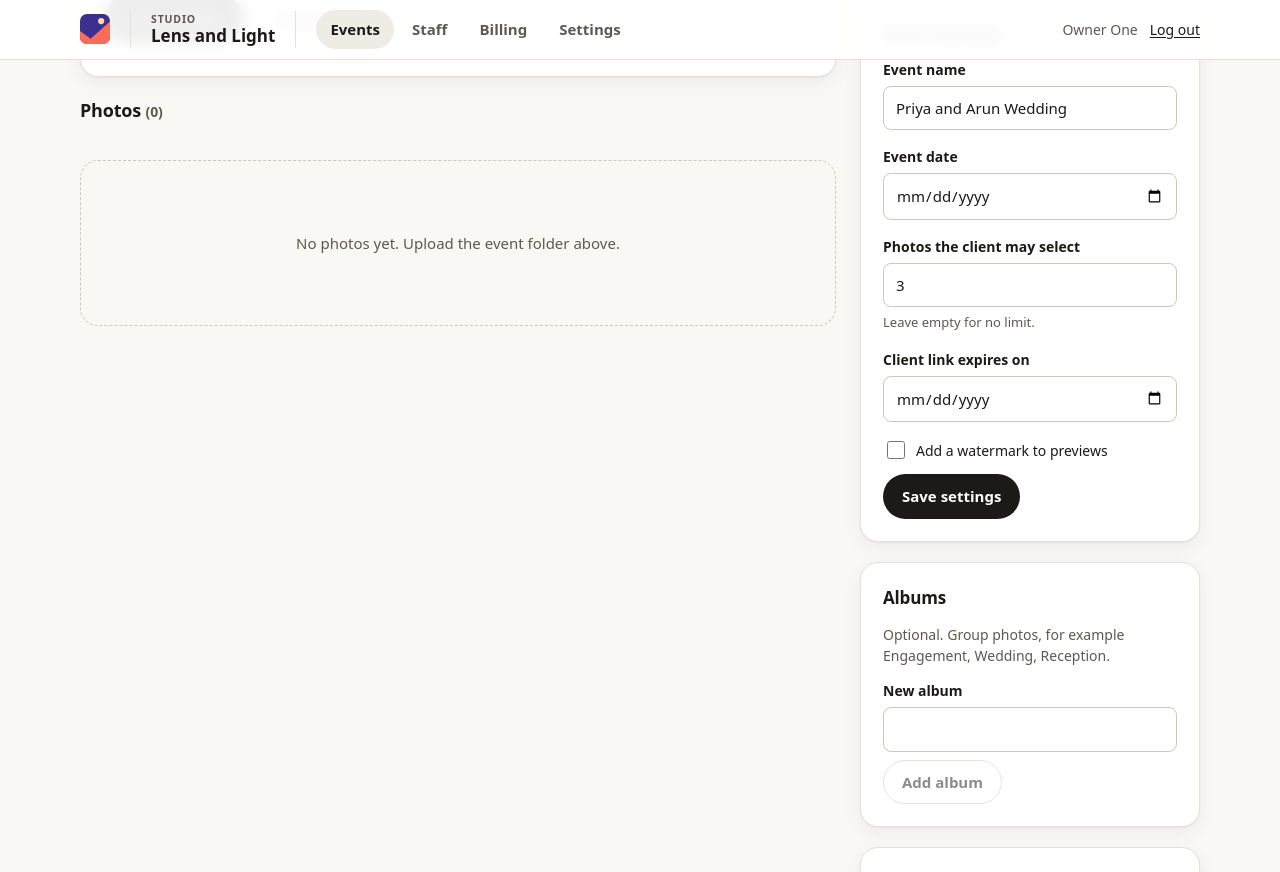
Scenario: event settings › turns the watermark on and sends its text
(page scrolled)
Expected: the field labelled "Watermark text" is not shown
Click the checkbox labelled "Add a watermark to previews" at coordinates (896, 450), box [887,441,905,459]
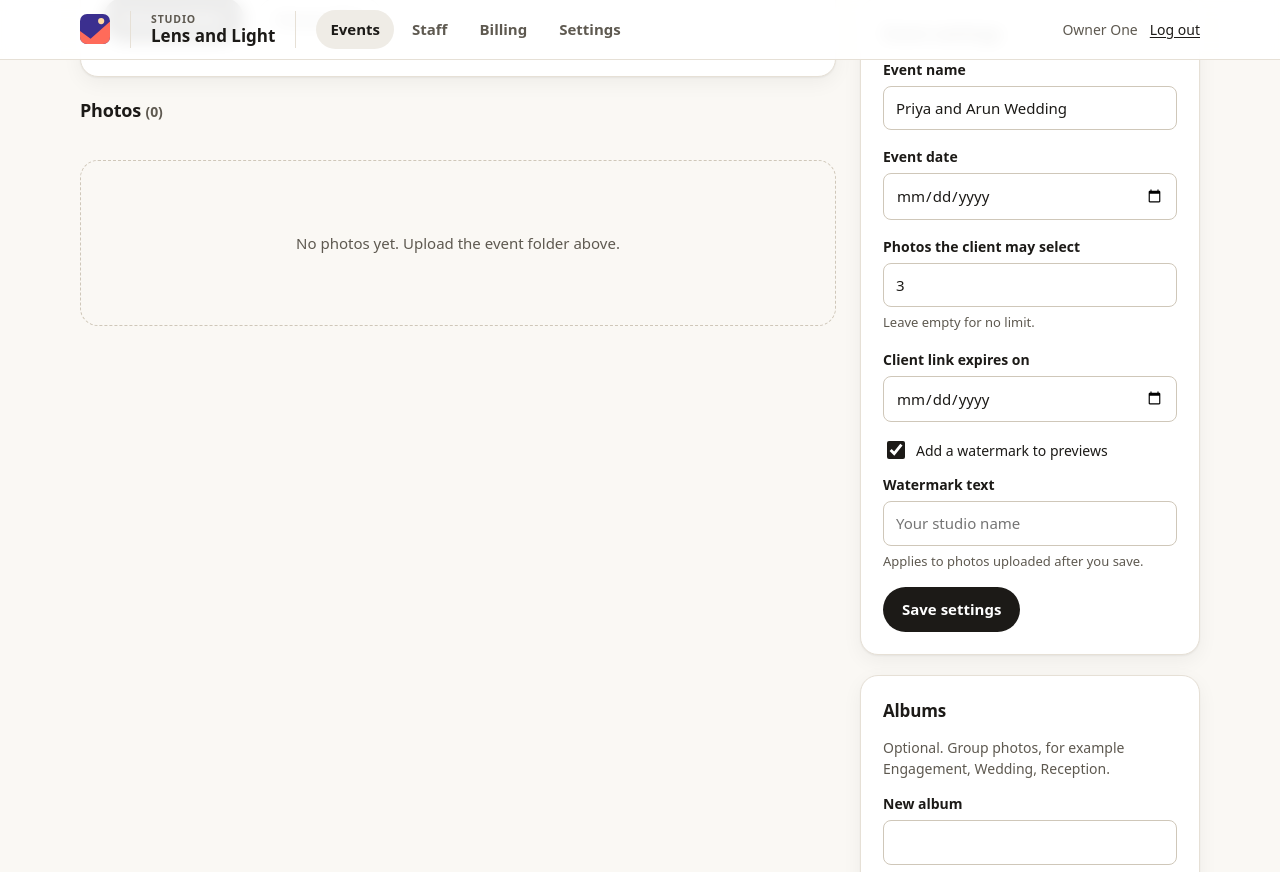
Type "Lens and Light" into the field labelled "Watermark text" at coordinates (1030, 523), box [883,501,1177,546]
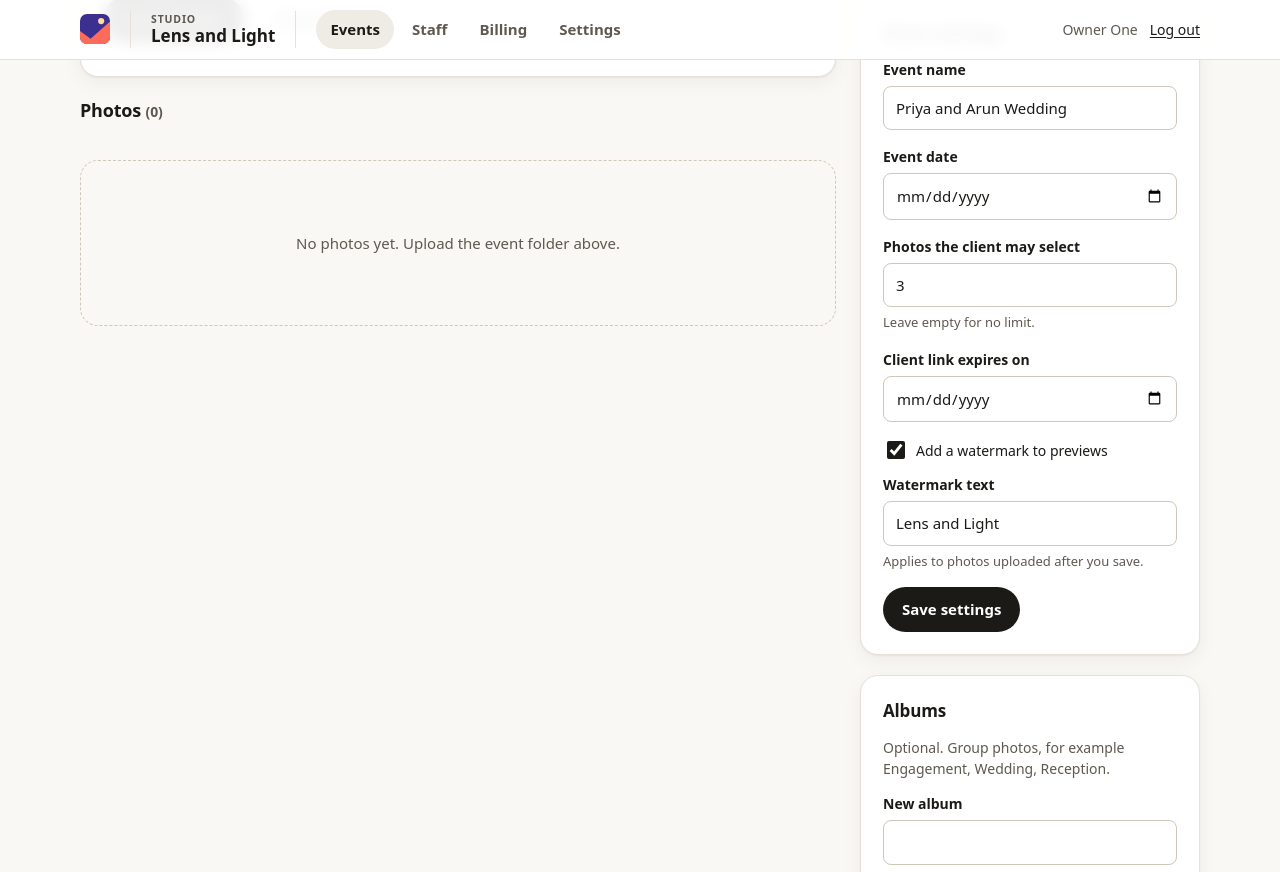
Click the button "Save settings" at coordinates (952, 609), box [883,587,1020,632]
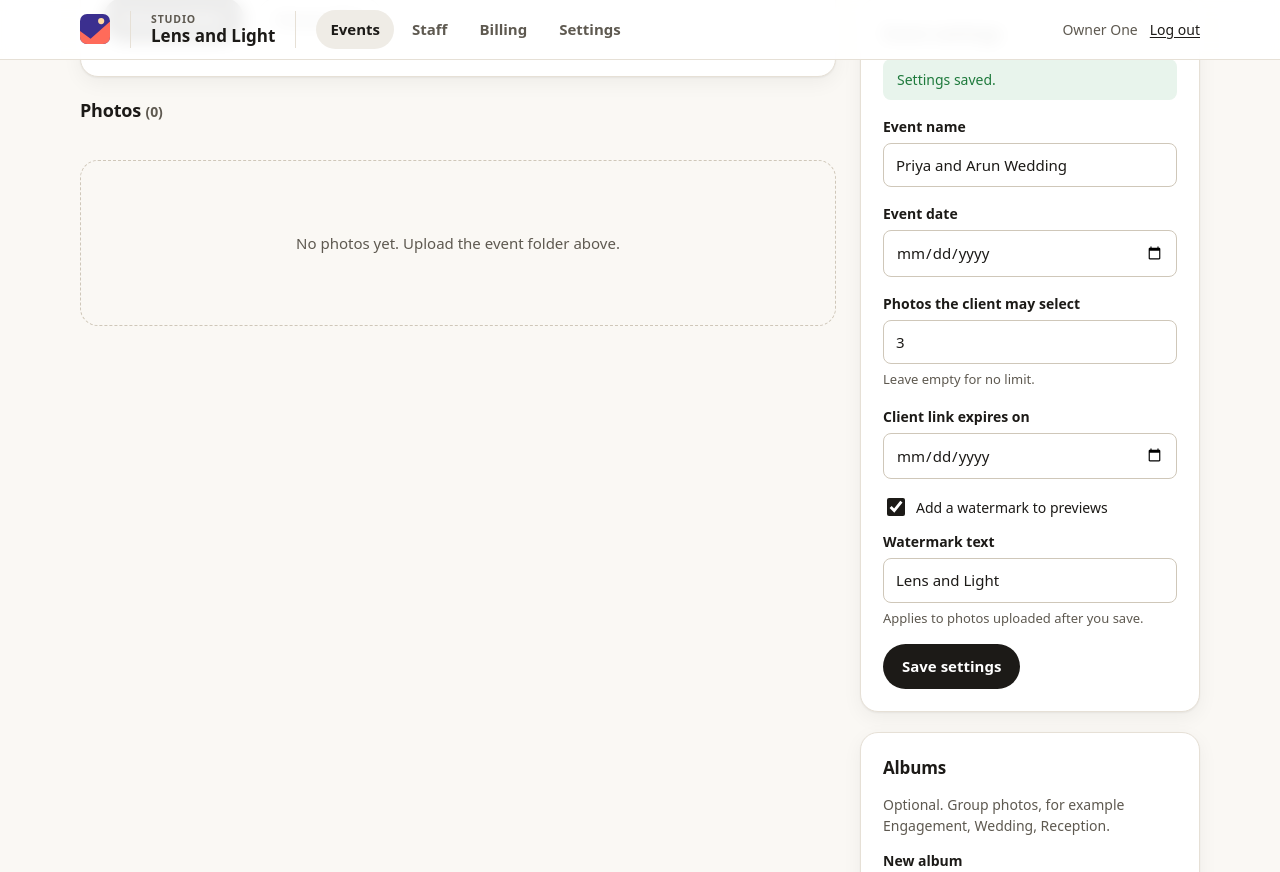
Expected: the text "Settings saved." is shown, [883,58,1177,100]
